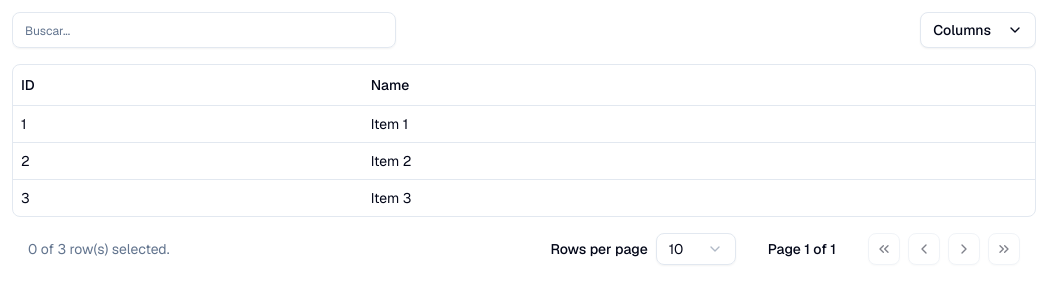
DataTable › renderiza o campo de busca e filtra pela coluna informada
Type "Item 2" into the field with placeholder "Buscar..." at [204, 30], box [12,12,396,48]
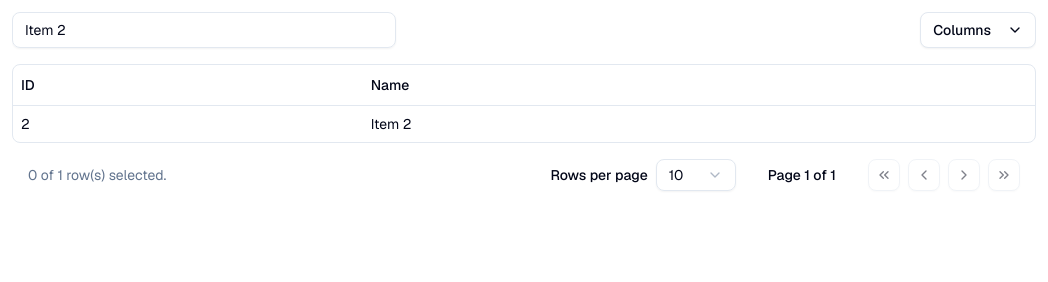
Expected: the text "Item 2" is shown, [363,105,1035,142]
Expected: the text "Item 1" is gone
